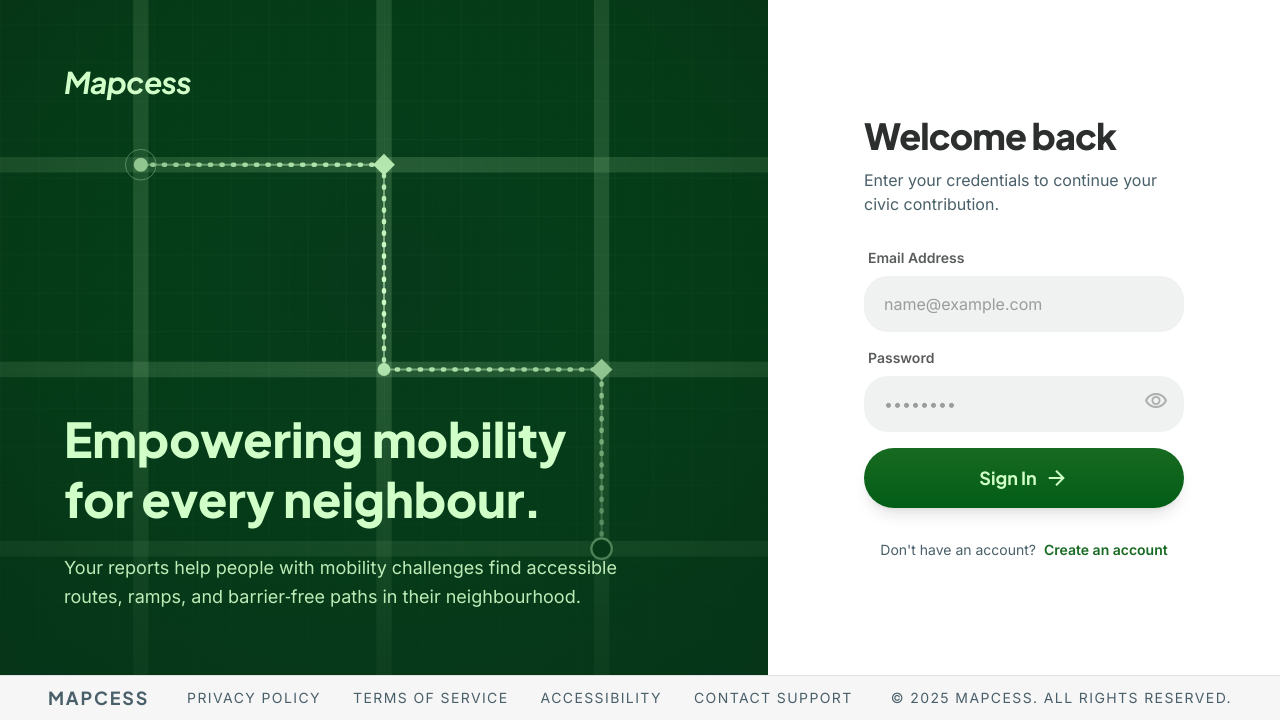
Test case: Login page › form submission › clears a previous error when resubmitting
This screenshot has width=1280, height=720.
Type "a@b.com" into the field labelled "Email Address" at (1024, 304), box [864,276,1184,332]
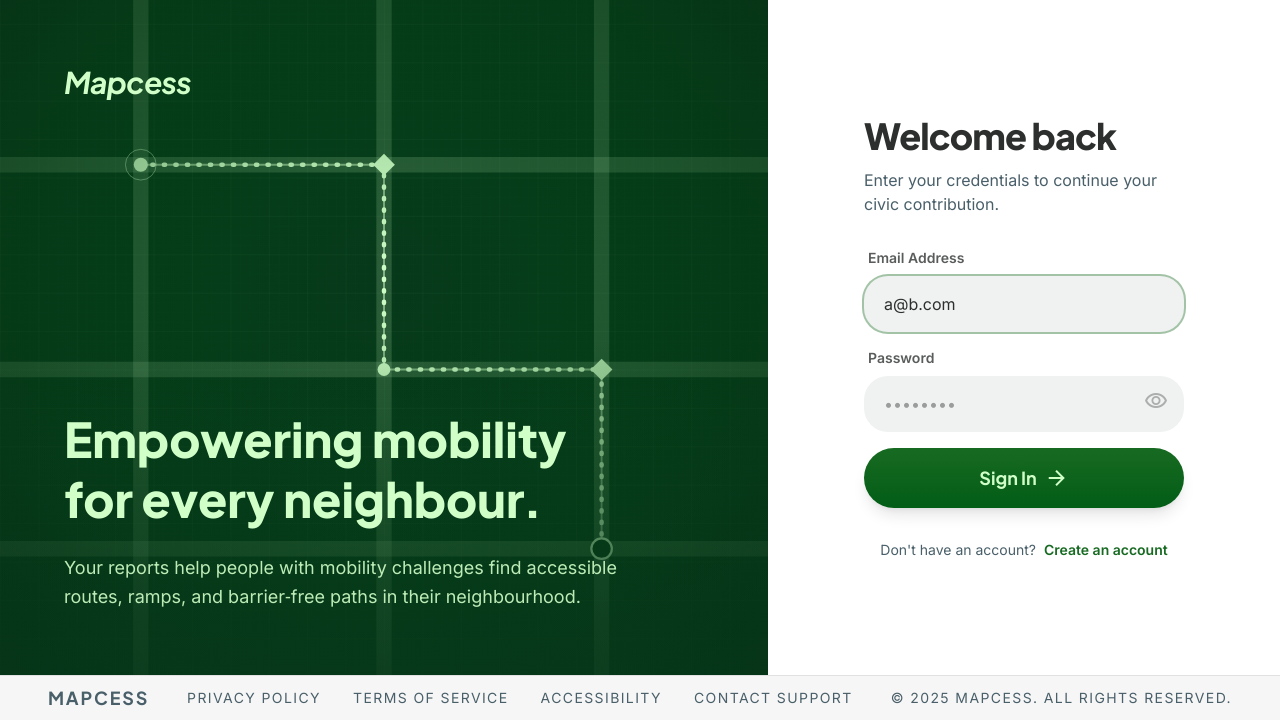
Type "wrong" into the password field labelled "Password" at (1024, 404), box [864,376,1184,432]
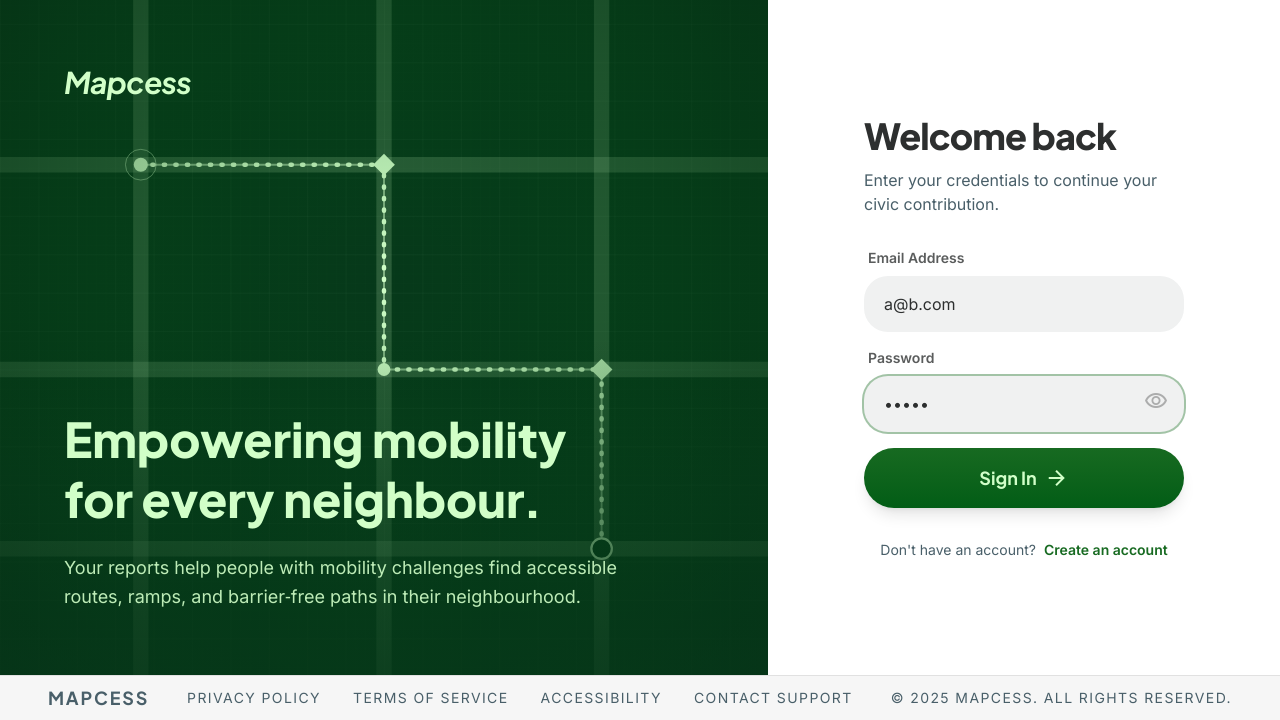
Click the button "Sign In" at (1024, 478), box [864,448,1184,508]
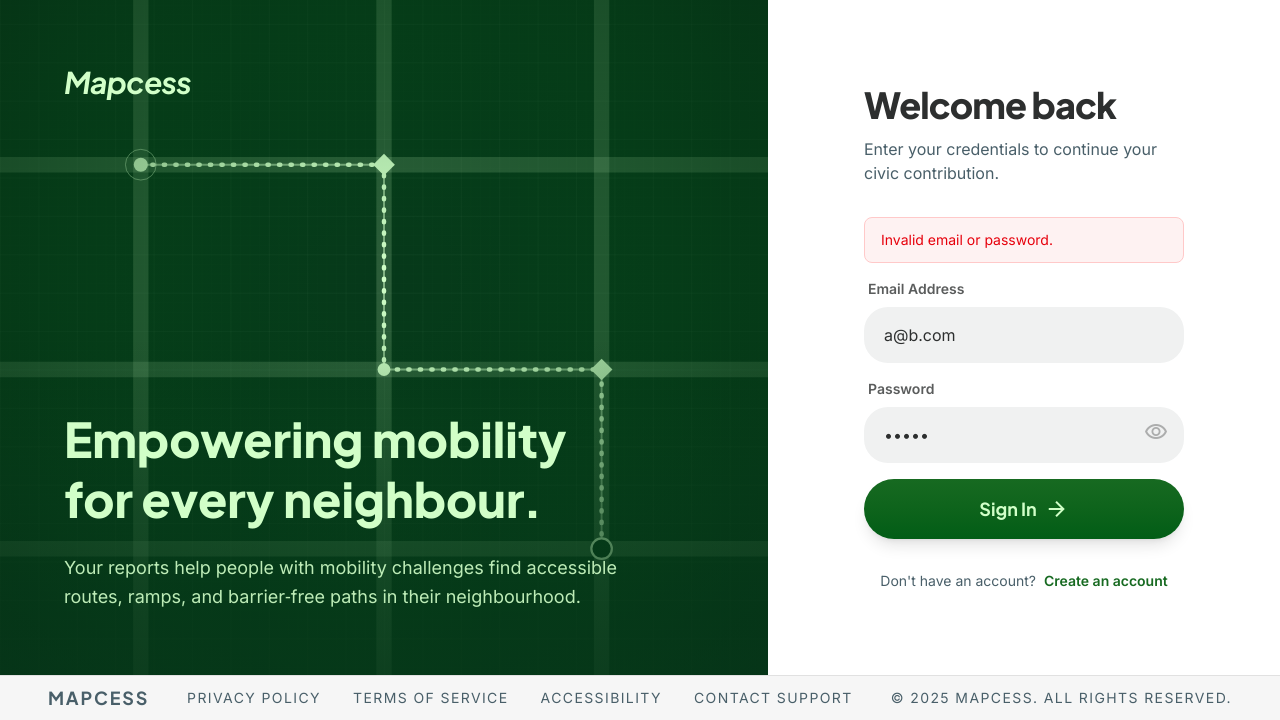
Check: the text "Invalid email or password." is shown, box [864,216,1184,262]
Click the button "Sign In" at (1024, 508), box [864,478,1184,538]
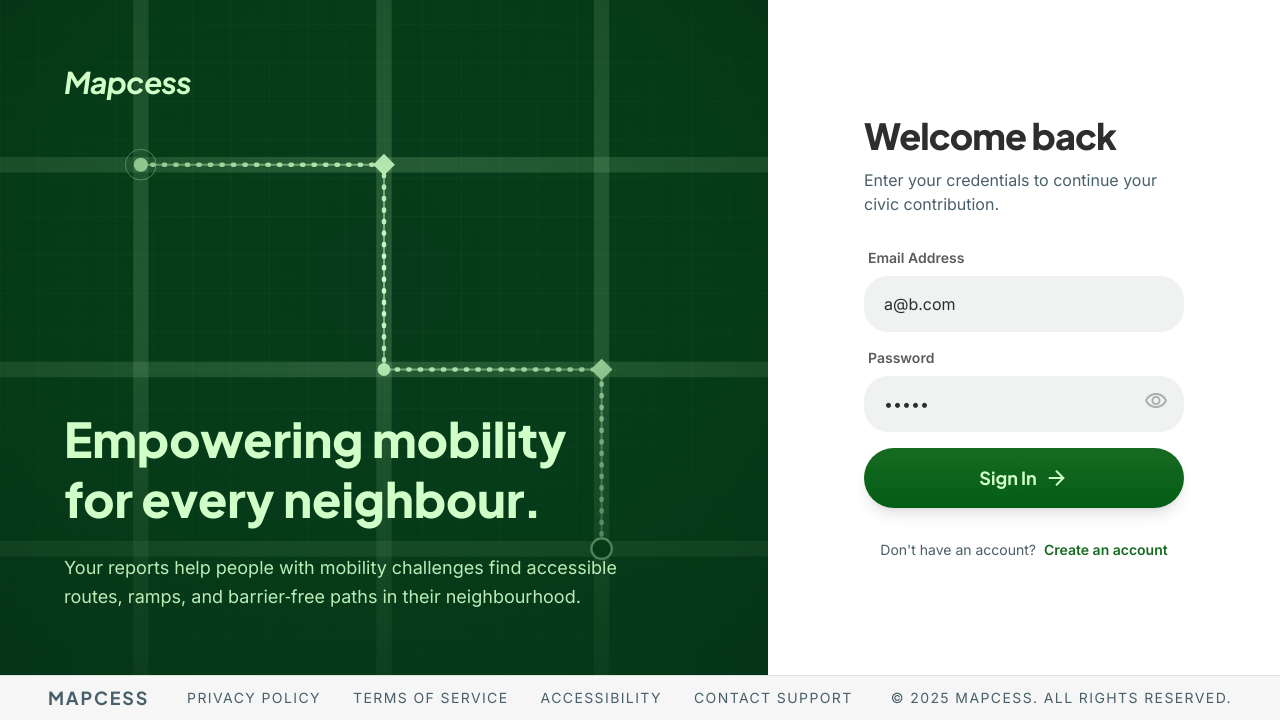
Check: the text "Invalid email or password" is gone
